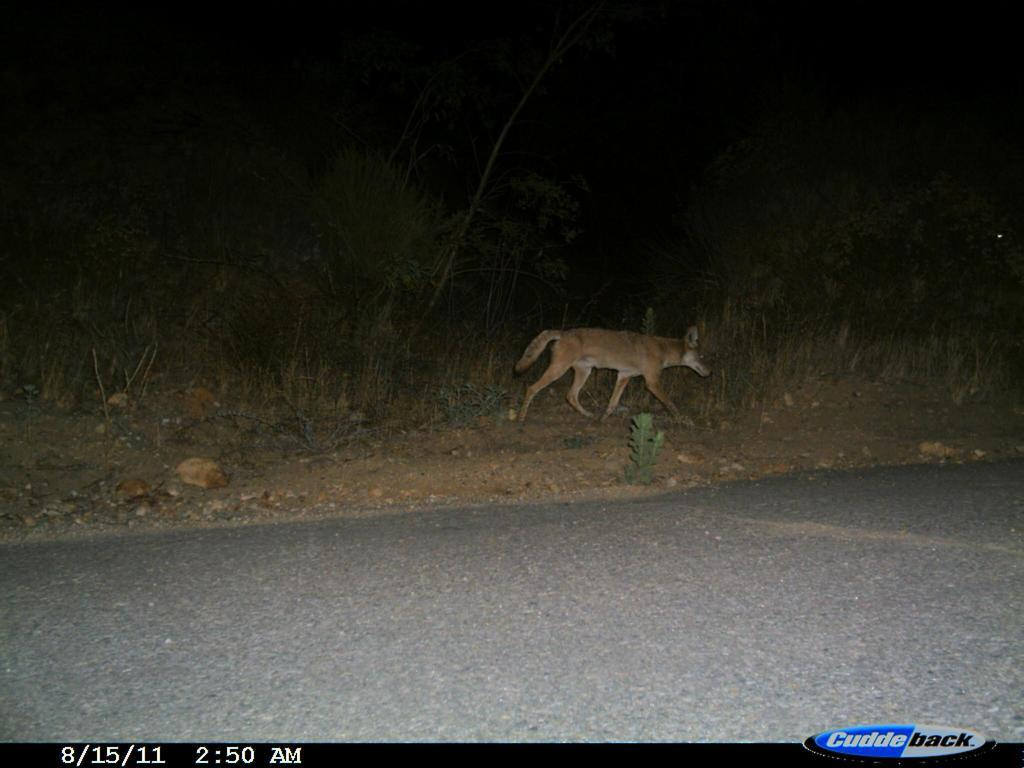coyote: (507, 316, 723, 437)
